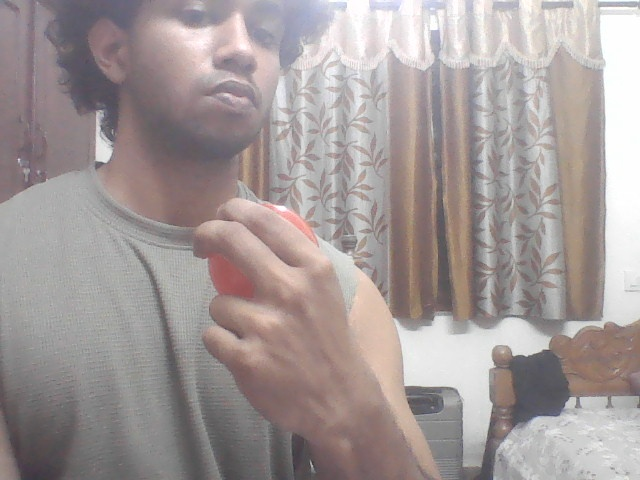cricket_ball: (204, 201, 321, 296)
